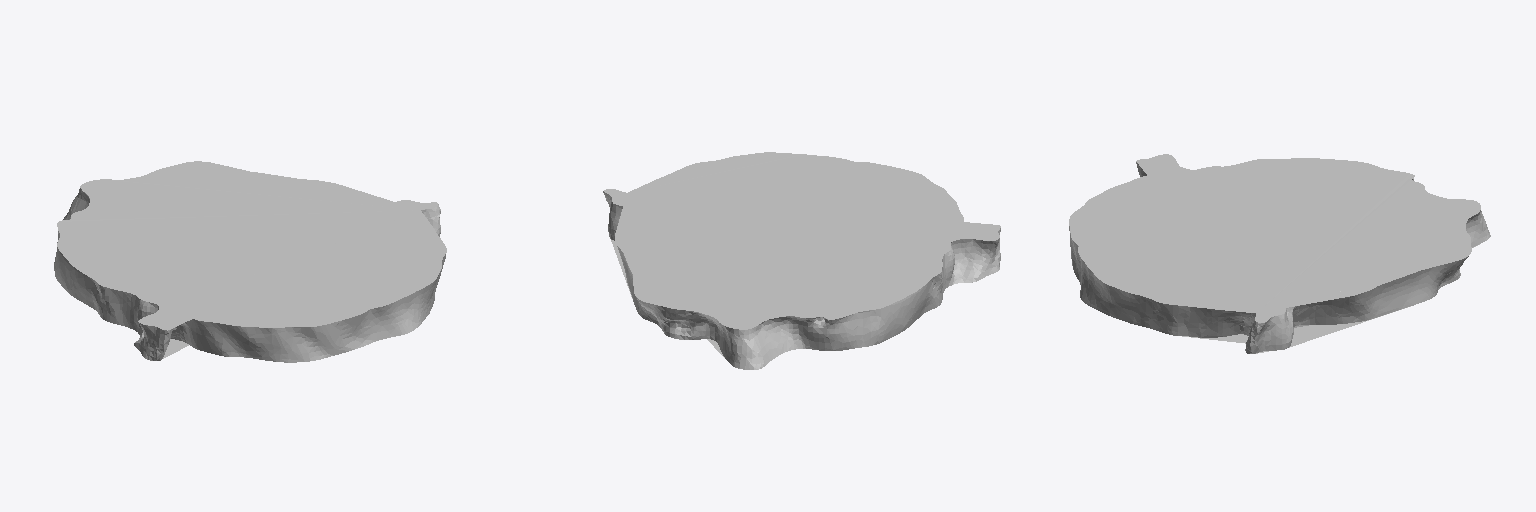
3 views of the same model, side by side, from view 1: azimuth 30°, elevation 25°; view 2: azimuth 150°, elevation 25°; view 3: azimuth 270°, elevation 25° (orthographic).
Parts seen in each view (by area): view 1: low.002_Fotogrametria_MarioGomes_V01_Model_2.002; view 2: low.002_Fotogrametria_MarioGomes_V01_Model_2.002; view 3: low.002_Fotogrametria_MarioGomes_V01_Model_2.002.
Boxes of the visible parts, x1=… form: low.002_Fotogrametria_MarioGomes_V01_Model_2.002: x1=54, y1=161, x2=446, y2=362; low.002_Fotogrametria_MarioGomes_V01_Model_2.002: x1=603, y1=152, x2=1000, y2=369; low.002_Fotogrametria_MarioGomes_V01_Model_2.002: x1=1069, y1=154, x2=1490, y2=353.
Bounding box in the file's own units: 2.16 × 0.2044 × 2.28.